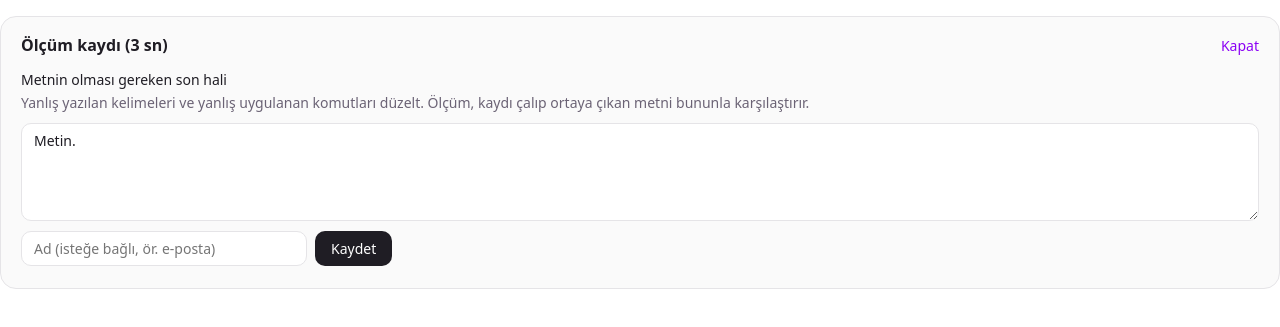
Test case: ölçüm kaydı kartı › sunucu kaydedemezse nedenini söyler
Click the button "Kaydet" at (354, 248), box top-left (315, 231), bottom-right (392, 266)
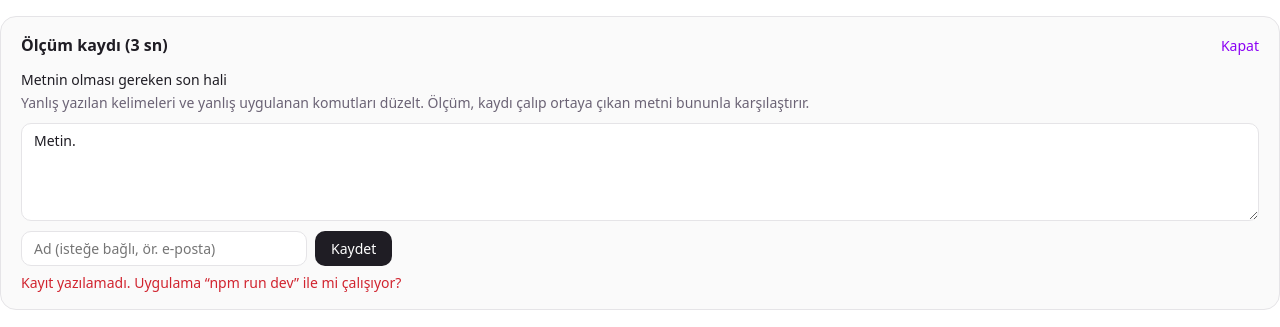
Result: the message shows "Kayıt yazılamadı" at top-left (21, 273), bottom-right (401, 292)
